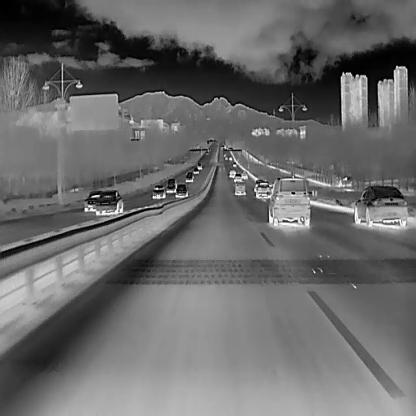car: (352, 184, 408, 226), (267, 177, 310, 226), (95, 188, 123, 214), (83, 189, 100, 212), (255, 181, 271, 198), (151, 185, 166, 199), (175, 184, 188, 196), (166, 182, 176, 193), (239, 170, 248, 180), (233, 172, 241, 181), (228, 168, 235, 177), (184, 175, 192, 182), (193, 167, 199, 174), (232, 161, 237, 166), (228, 155, 232, 160), (224, 155, 228, 160), (222, 153, 226, 156), (205, 150, 208, 154), (208, 147, 210, 150)
truck: (233, 180, 246, 196), (196, 162, 202, 169)
